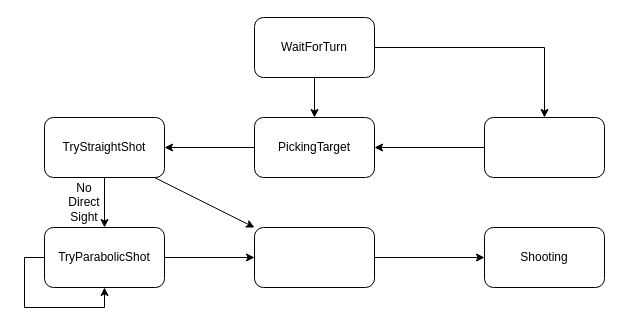
Image size: 622x333. Some labels were removed from this diagram. The shapes that lost their labels are listed below. From the top down, each one's centre as x and y in pixels, then its label:
At pixel 544 147: "Moving".
At pixel 314 257: "Aim".
